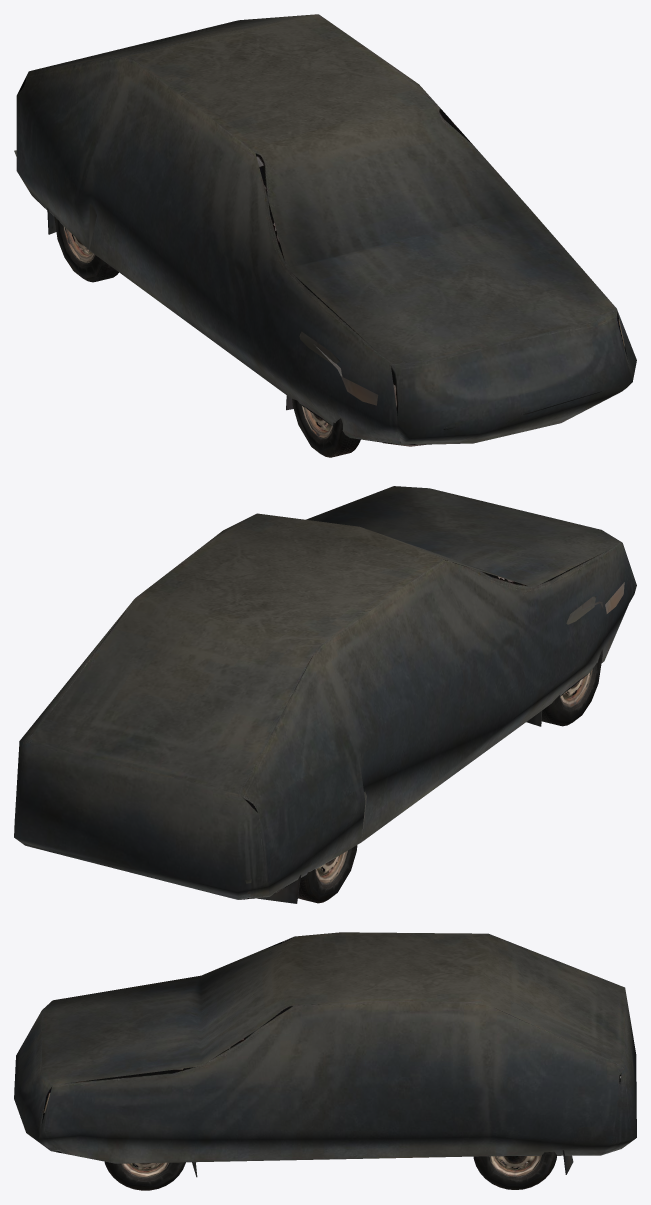
Rendered from covered_car.glb.
3 views of the same model, one above another, from view 1: azimuth 30°, elevation 25°; view 2: azimuth 150°, elevation 25°; view 3: azimuth 270°, elevation 25° (orthographic). The views are drawn at different scales.
Parts seen in each view (by area): view 1: covered_car, covered_car_wheel_02, covered_car_wheel_03; view 2: covered_car, covered_car_wheel_03, covered_car_wheel_02; view 3: covered_car, covered_car_wheel_04, covered_car_wheel_01.
Part boxes in pixels (x1,y1,x2,y2): covered_car: [14, 14, 636, 446]; covered_car_wheel_02: [292, 398, 360, 457]; covered_car_wheel_03: [54, 216, 118, 282]; covered_car: [14, 486, 636, 903]; covered_car_wheel_03: [298, 845, 357, 903]; covered_car_wheel_02: [541, 650, 602, 726]; covered_car: [14, 932, 636, 1177]; covered_car_wheel_04: [473, 1151, 556, 1189]; covered_car_wheel_01: [104, 1161, 185, 1190].
Size of the model in its own units: 1.79 by 1.37 by 4.34.
1 material, 1 textured.
